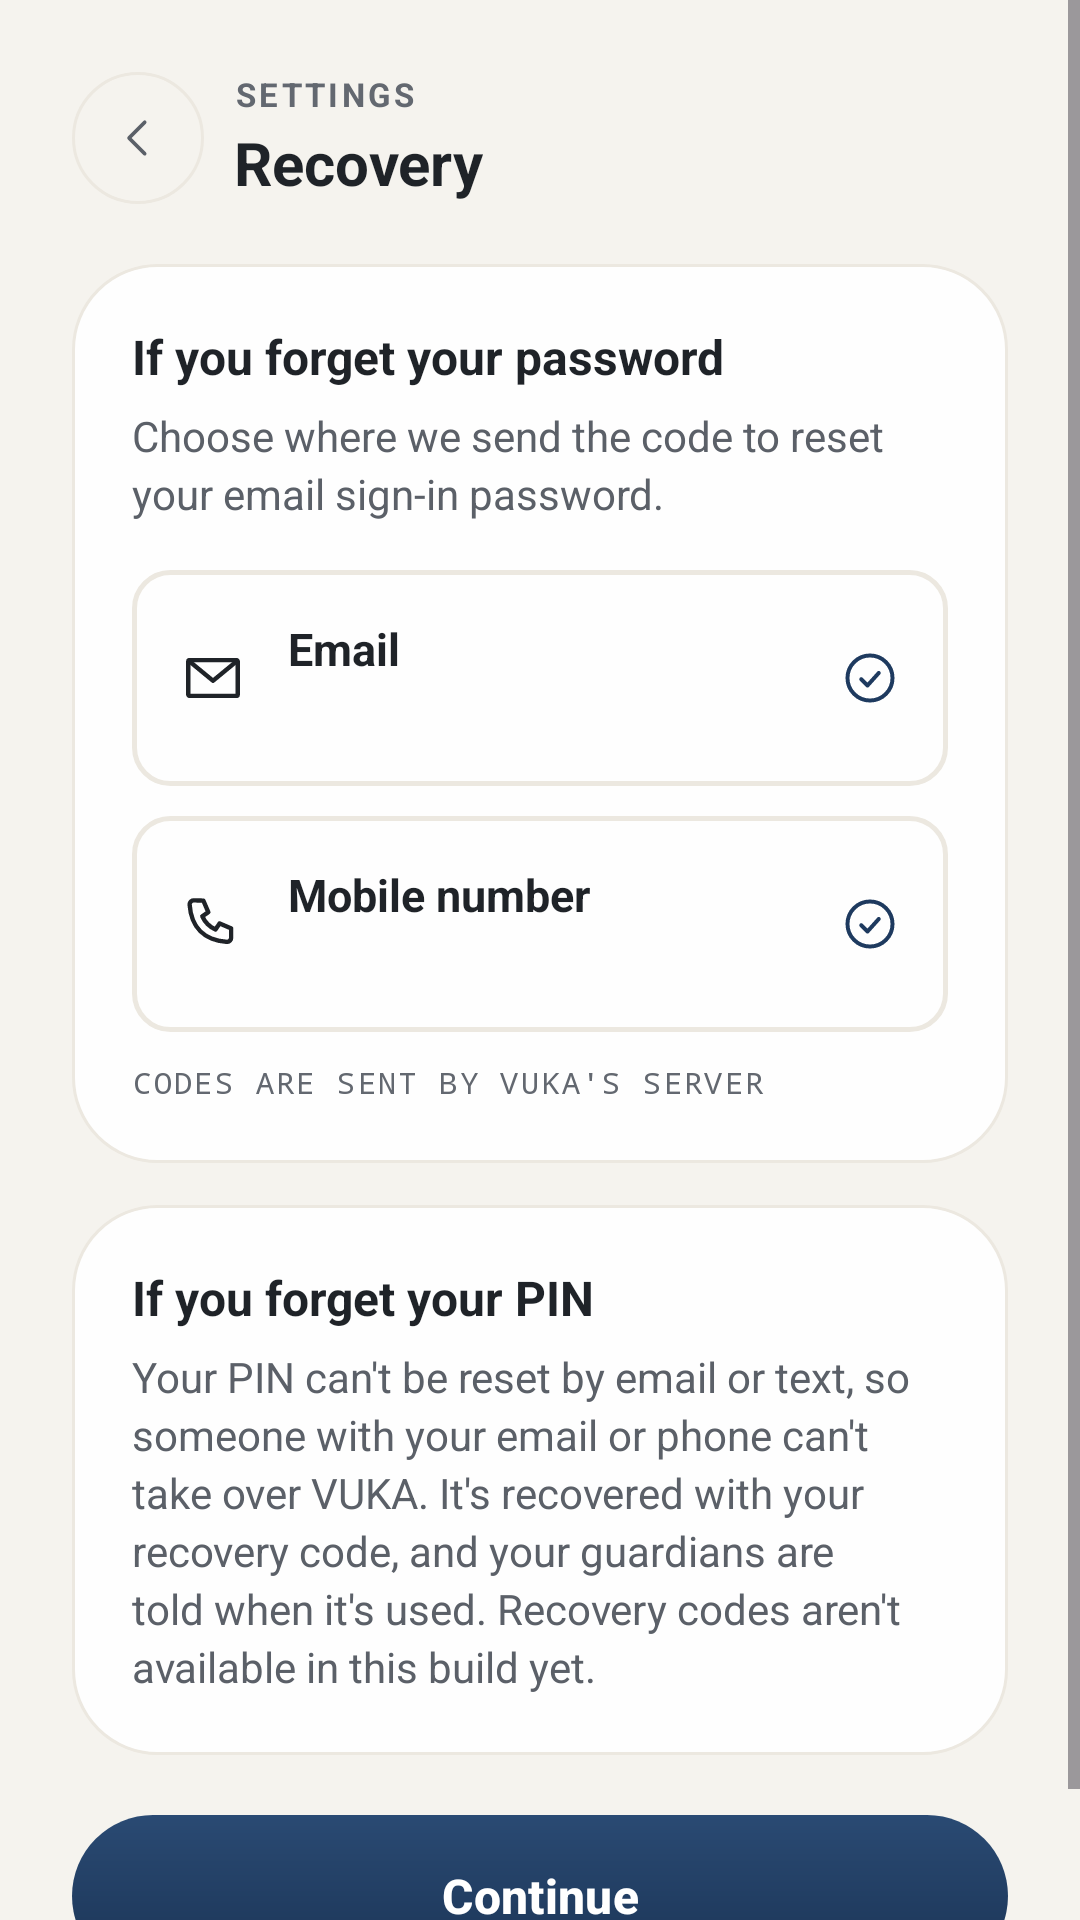

Named icons in this screenshot (1080x1920) and their centers, (x=x, y=y):
Back: (x=137, y=138)
check circle: (x=870, y=678), (x=870, y=924)
phone: (x=210, y=921)
